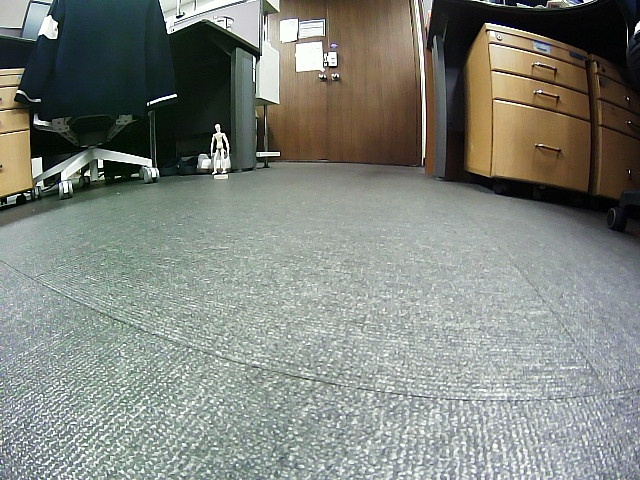person: (210, 122, 230, 174)
